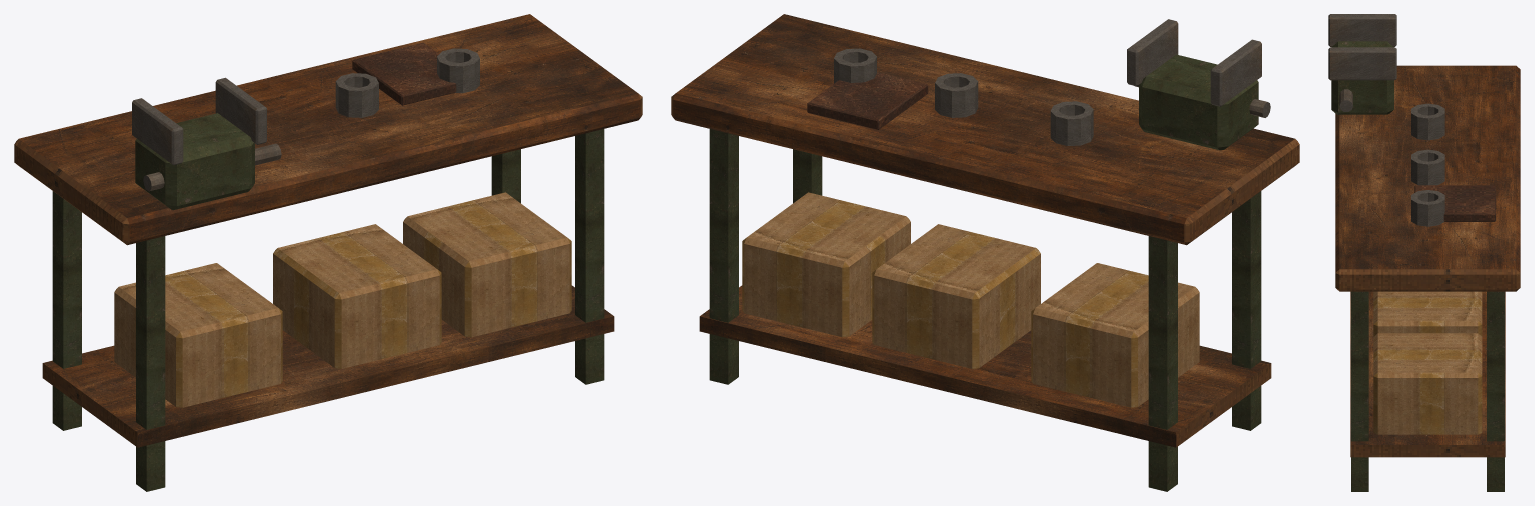
The model's file is level_castle_preparation_bench_worn.glb.
3 renders of one model, left to right at view 1: azimuth 30°, elevation 25°; view 2: azimuth 150°, elevation 25°; view 3: azimuth 270°, elevation 25°, orthographic. The views are drawn at different scales.
Visible parts, largest first — view 1: level_workbench_worn; view 2: level_workbench_worn; view 3: level_workbench_worn.
Part boxes in pixels (x1,y1,x2,y2): level_workbench_worn: [14, 14, 642, 491]; level_workbench_worn: [671, 14, 1299, 491]; level_workbench_worn: [1328, 14, 1520, 491].
Bounding box in the file's own units: 1.8 × 1.22 × 0.705.
1 material, 1 textured.
